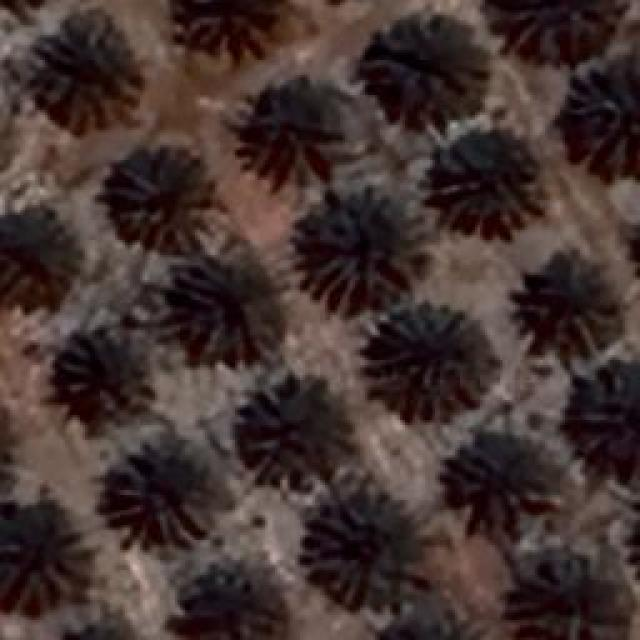PalmTree: (44, 110, 103, 561), (362, 300, 498, 418), (295, 190, 430, 305), (22, 10, 142, 130), (360, 14, 480, 134), (300, 500, 420, 610), (105, 150, 227, 258), (100, 437, 210, 545), (242, 384, 352, 488), (180, 252, 282, 360), (430, 142, 542, 240), (450, 430, 558, 530), (245, 76, 348, 176), (103, 29, 230, 110), (520, 542, 620, 640), (520, 265, 618, 363), (560, 49, 638, 172), (60, 328, 148, 424), (0, 212, 78, 310), (492, 0, 620, 58), (186, 567, 268, 640), (575, 378, 640, 468), (373, 616, 492, 640), (48, 617, 150, 640), (372, 623, 492, 640), (383, 623, 493, 640), (48, 624, 150, 640)
